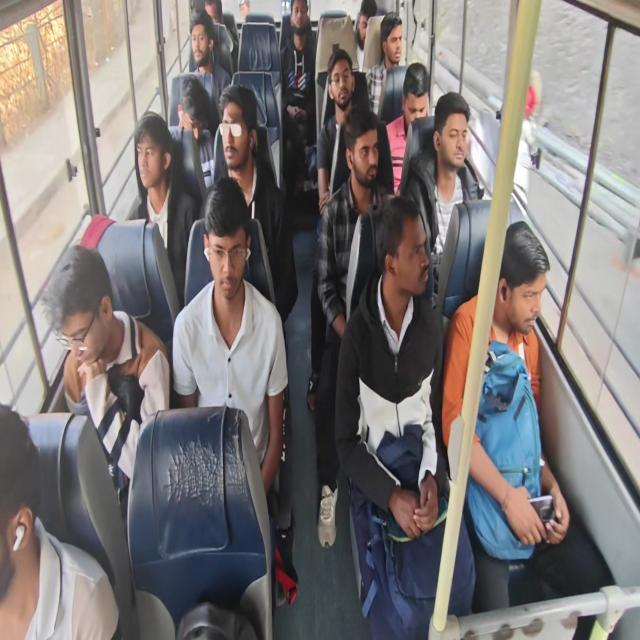person: (46, 258, 112, 364), (375, 224, 436, 302), (205, 202, 247, 299), (497, 242, 542, 328), (342, 124, 386, 193), (219, 89, 253, 169), (441, 106, 470, 165), (135, 128, 163, 186), (179, 75, 205, 135), (402, 71, 427, 131), (355, 8, 381, 53), (186, 24, 213, 59), (288, 0, 310, 39), (330, 65, 351, 105), (385, 17, 402, 65), (204, 0, 224, 26)
